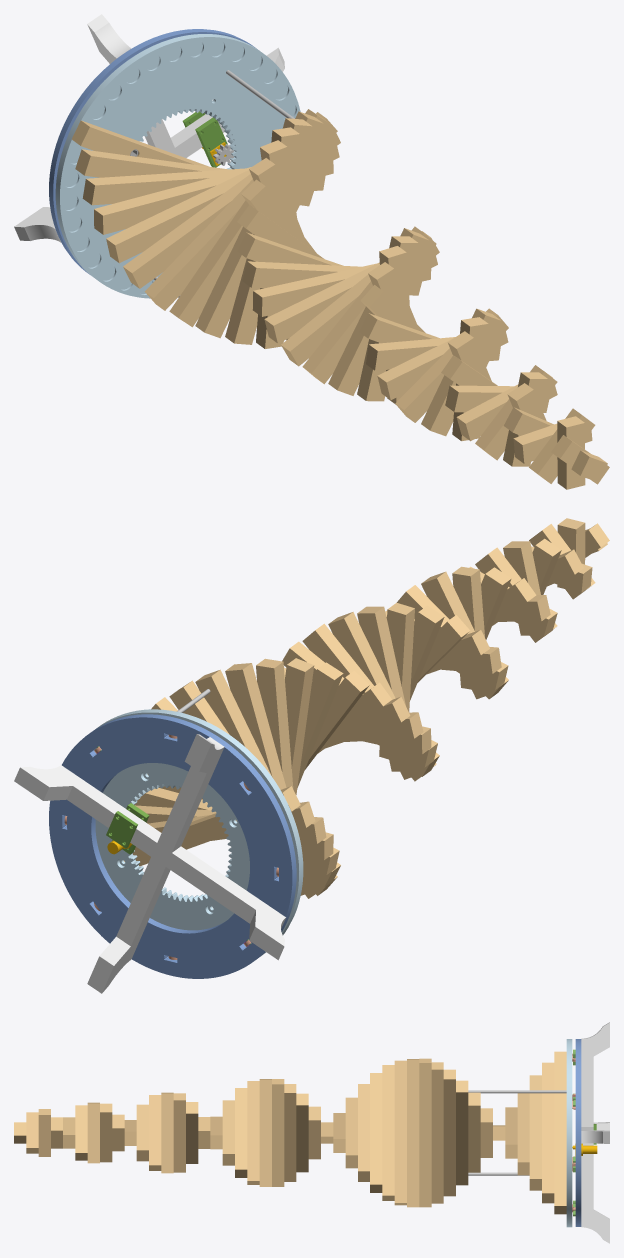
Rendered from helical-flame-coloured-v3.glb.
3 renders of one model, top to bottom at view 1: azimuth 30°, elevation 25°; view 2: azimuth 150°, elevation 25°; view 3: azimuth 270°, elevation 25°, orthographic. The views are drawn at different scales.
Visible parts, largest first — view 1: Part 1; view 2: Part 1; view 3: Part 1.
Boxes of the visible parts, left/top/right/bottom form: Part 1: left=14, top=14, right=609, bottom=489; Part 1: left=14, top=518, right=609, bottom=993; Part 1: left=14, top=1022, right=609, bottom=1243.
Size of the model in its own units: 0.6492 by 0.6492 by 1.85.
1 material, 1 textured.
